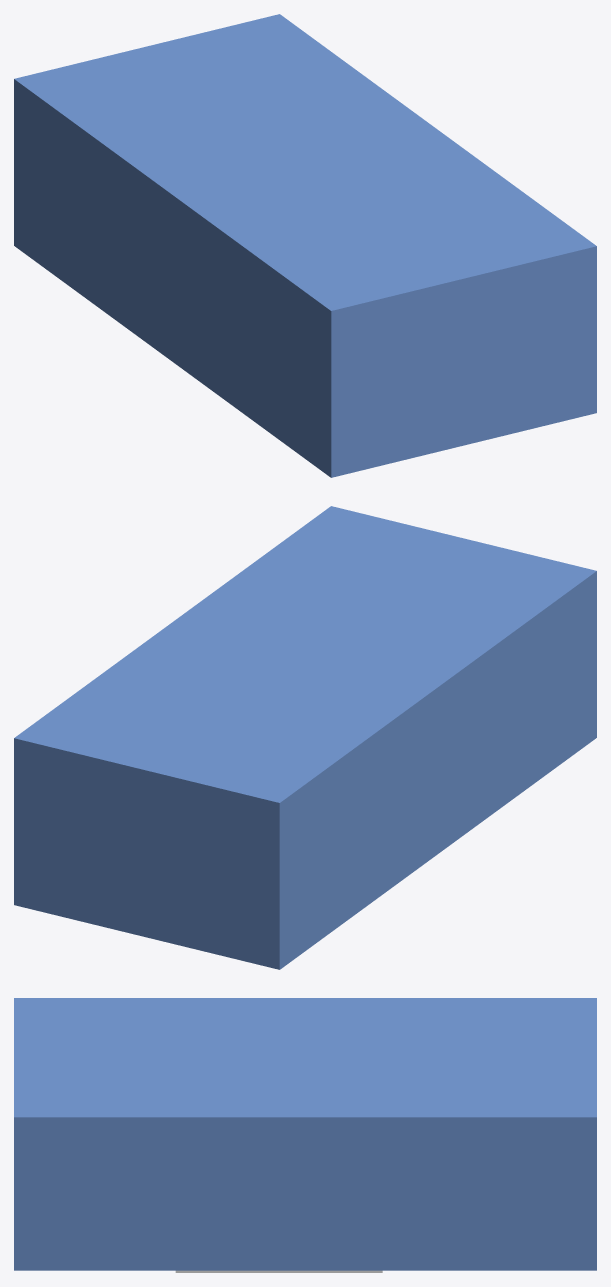
Rendered from city_blue_ticket_machine.glb.
The picture shows the model from 3 angles, top to bottom: view 1: azimuth 30°, elevation 25°; view 2: azimuth 150°, elevation 25°; view 3: azimuth 270°, elevation 25°; orthographic projection. The views are drawn at different scales.
Parts seen in each view (by area): view 1: machine_body; view 2: machine_body; view 3: machine_body, button_panel.
Part boxes in pixels (x1,y1,x2,y2): machine_body: (14, 14, 596, 477); machine_body: (14, 506, 596, 969); machine_body: (14, 998, 596, 1270); button_panel: (175, 1270, 382, 1272).
Size of the model in its own units: 0.75 by 0.4825 by 1.55.
